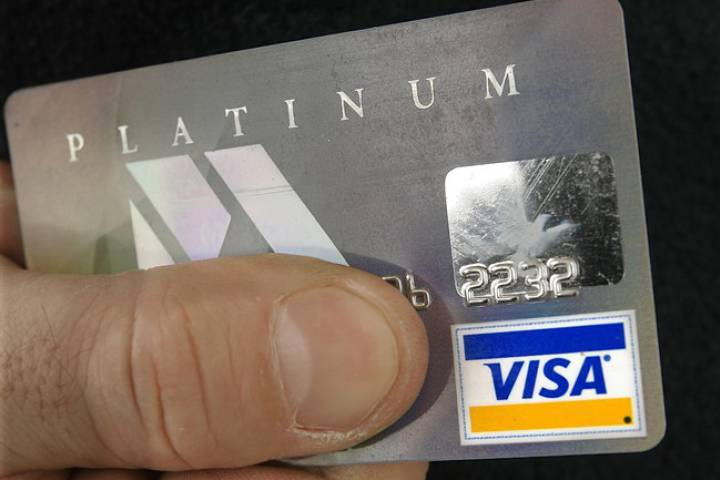tarjeta: (3, 1, 670, 467)
